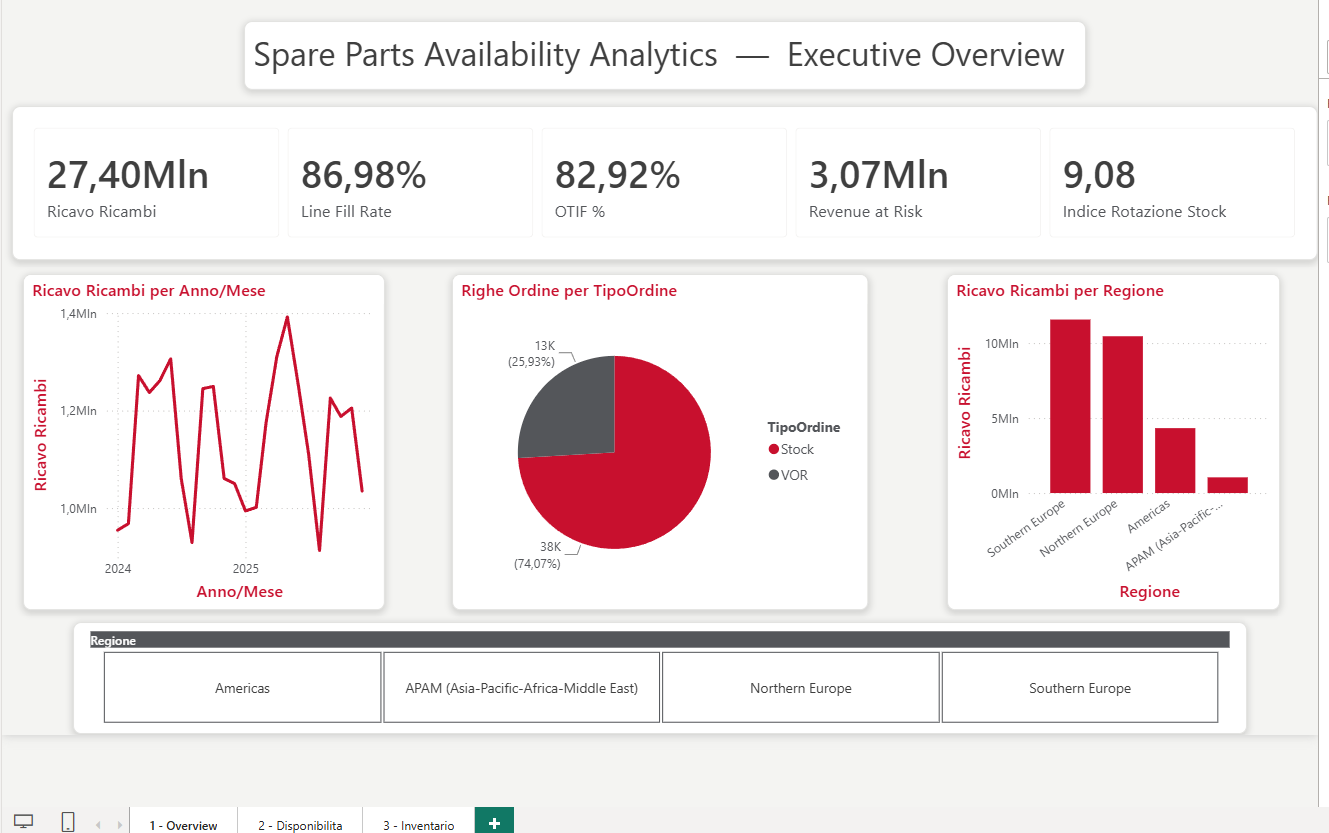

The dashboard page shown, as its layout file describes it:
{"tool":"powerbi","page":{"name":"1 - Overview","canvas":[1280,720],"ordinal":0},"visuals":[{"type":"clusteredColumnChart","fields":{"Y":["fact_parts_orders.Ricavo Ricambi"],"Category":["dim_region.Regione"]},"box":[919.1,271.8,323.7,327],"z":0},{"type":"lineChart","fields":{"Category":["dim_date.Anno/Mese"],"Y":["fact_parts_orders.Ricavo Ricambi"]},"box":[20.3,271.8,351.9,327],"z":1000},{"type":"cardVisual","fields":{"Data":["fact_parts_orders.Ricavo Ricambi","fact_parts_orders.Line Fill Rate","fact_parts_orders.OTIF %","fact_parts_orders.Revenue at Risk","fact_inventory_snapshot.Indice Rotazione Stock"]},"box":[10.1,108.3,1269.9,150],"z":2000},{"type":"pieChart","fields":{"Category":["fact_parts_orders.TipoOrdine"],"Y":["fact_parts_orders.Righe Ordine"]},"box":[437.6,271.8,404.9,327],"z":3000},{"type":"textbox","box":[235.7,24.8,818.7,66.5],"z":4000},{"type":"slicer","fields":{"Values":["dim_region.Regione"]},"box":[68.8,610.1,1142.4,109.4],"z":5000}]}

Visuals, with their boxes on the page's 1280x720 design canvas (x1, y1, x2, y2). These are canvas units, not pixel positions in the 1329x833 screenshot, which may show the page scaled, cropped or inside an application window:
clusteredColumnChart - fact_parts_orders.Ricavo Ricambi x dim_region.Regione: 919 272 1243 599
lineChart - dim_date.Anno/Mese x fact_parts_orders.Ricavo Ricambi: 20 272 372 599
cardVisual - fact_parts_orders.Ricavo Ricambi x fact_parts_orders.Line Fill Rate: 10 108 1280 258
pieChart - fact_parts_orders.TipoOrdine x fact_parts_orders.Righe Ordine: 438 272 842 599
textbox: 236 25 1054 91
slicer - dim_region.Regione: 69 610 1211 720
